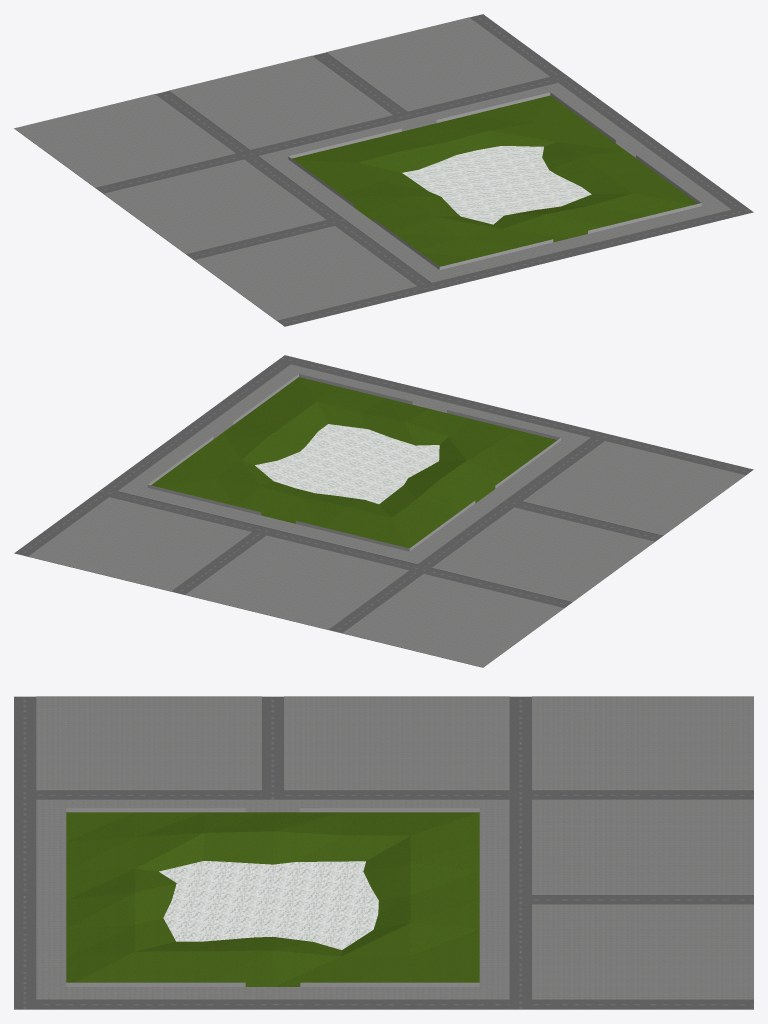
Rendered from ground6.FBX.
3 views of the same model, one above another, from view 1: azimuth 30°, elevation 25°; view 2: azimuth 150°, elevation 25°; view 3: azimuth 270°, elevation 25° (orthographic). The views are drawn at different scales.
Parts seen in each view (by area): view 1: ground6_LOD0, ground6_water, ground6_fence; view 2: ground6_LOD0, ground6_water, ground6_fence; view 3: ground6_LOD0, ground6_water, ground6_fence.
Boxes of the visible parts, <box> form: ground6_LOD0: <box>14,14,753,326</box>; ground6_water: <box>402,146,591,224</box>; ground6_fence: <box>288,92,701,269</box>; ground6_LOD0: <box>14,355,753,667</box>; ground6_water: <box>255,424,439,503</box>; ground6_fence: <box>147,374,560,551</box>; ground6_LOD0: <box>14,696,753,1009</box>; ground6_water: <box>159,861,378,949</box>; ground6_fence: <box>66,808,479,986</box>.
Size of what is drawn, in the model's own units: 200 by 5.54 by 200.
